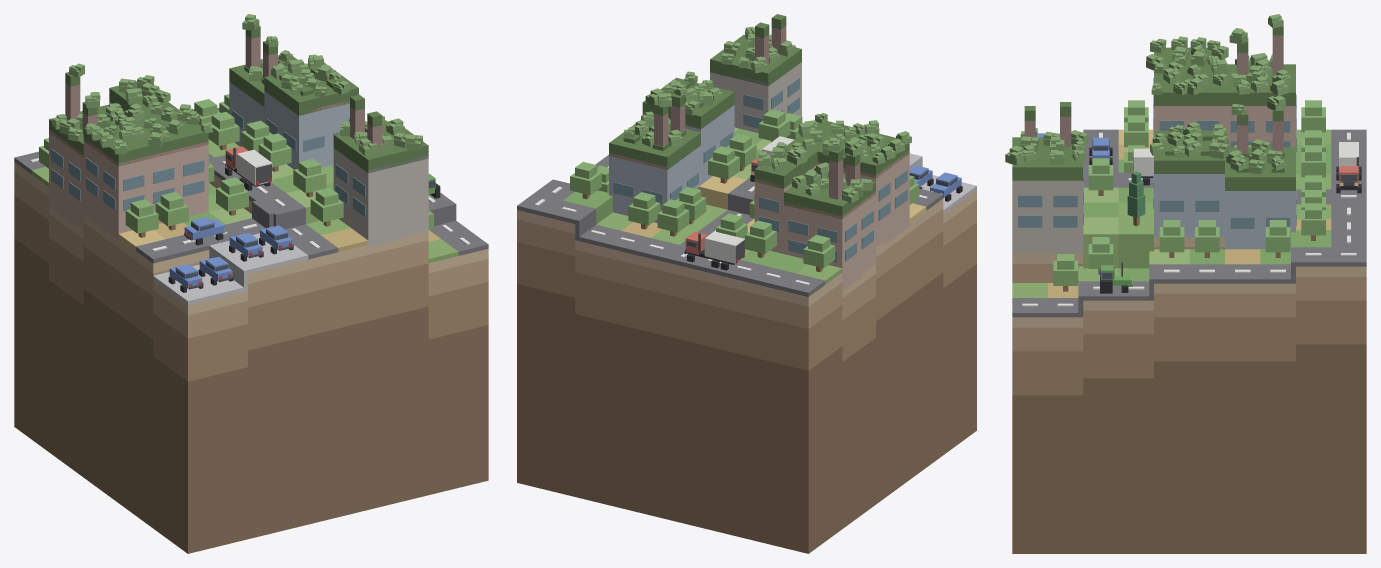
File: block_10_greenroof_45.glb
3 renders of one model, left to right at view 1: azimuth 30°, elevation 25°; view 2: azimuth 150°, elevation 25°; view 3: azimuth 270°, elevation 25°, orthographic. The views are drawn at different scales.
Parts seen in each view (by area): view 1: Patch_LowerLeft_b10_GR, Factories_LowerLeft_b10_GR, GR_Roof_Factories_LowerLeft_b10_GR, Roads_LowerLeft_b10_GR, Ground_LowerLeft_b10_GR, Parking_LowerLeft_b10_GR, Asset_Truck.003_GR, Asset_Tree_Round.061_GR, Asset_Tree_Round.057_GR, Asset_Tree_Round.047_GR, Asset_Tree_Round.048_GR, Asset_Tree_Round.049_GR (+8 smaller); view 2: Patch_LowerLeft_b10_GR, Factories_LowerLeft_b10_GR, GR_Roof_Factories_LowerLeft_b10_GR, Roads_LowerLeft_b10_GR, Ground_LowerLeft_b10_GR, Asset_Truck.002_GR, Asset_Tree_Round.024_GR, Asset_Tree_Round.027_GR, Asset_Tree_Round.029_GR, Asset_Tree_Round.028_GR, Asset_Tree_Round.025_GR, Asset_Tree_Round.042_GR (+7 smaller); view 3: Patch_LowerLeft_b10_GR, Factories_LowerLeft_b10_GR, Roads_LowerLeft_b10_GR, Ground_LowerLeft_b10_GR, GR_Roof_Factories_LowerLeft_b10_GR, Asset_Truck.002_GR, Asset_Tree_Round.037_GR, Asset_Tree_Round.045_GR, Asset_Tree_Round.057_GR, RoadLines_LowerLeft_b10_GR, Asset_Tree_Round.043_GR, Asset_Tree_Round.029_GR (+9 smaller).
Boxes of the visible parts, <box> form: Patch_LowerLeft_b10_GR: <box>14,162,488,553</box>; Factories_LowerLeft_b10_GR: <box>49,35,428,247</box>; GR_Roof_Factories_LowerLeft_b10_GR: <box>49,25,428,172</box>; Roads_LowerLeft_b10_GR: <box>14,107,488,263</box>; Ground_LowerLeft_b10_GR: <box>31,139,458,263</box>; Parking_LowerLeft_b10_GR: <box>153,233,308,305</box>; Asset_Truck.003_GR: <box>225,146,272,190</box>; Asset_Tree_Round.061_GR: <box>310,188,343,226</box>; Asset_Tree_Round.057_GR: <box>293,158,326,197</box>; Asset_Tree_Round.047_GR: <box>125,199,158,237</box>; Asset_Tree_Round.048_GR: <box>155,192,188,230</box>; Asset_Tree_Round.049_GR: <box>216,177,248,215</box>; Patch_LowerLeft_b10_GR: <box>517,190,976,553</box>; Factories_LowerLeft_b10_GR: <box>609,26,909,291</box>; GR_Roof_Factories_LowerLeft_b10_GR: <box>609,14,909,218</box>; Roads_LowerLeft_b10_GR: <box>517,155,943,296</box>; Ground_LowerLeft_b10_GR: <box>563,127,926,284</box>; Asset_Truck.002_GR: <box>684,231,744,270</box>; Asset_Tree_Round.024_GR: <box>803,234,835,271</box>; Asset_Tree_Round.027_GR: <box>657,199,689,236</box>; Asset_Tree_Round.029_GR: <box>570,162,601,199</box>; Asset_Tree_Round.028_GR: <box>628,192,660,229</box>; Asset_Tree_Round.025_GR: <box>745,220,776,257</box>; Asset_Tree_Round.042_GR: <box>708,146,739,183</box>; Patch_LowerLeft_b10_GR: <box>1012,237,1366,553</box>; Factories_LowerLeft_b10_GR: <box>1012,35,1296,253</box>; Roads_LowerLeft_b10_GR: <box>1012,129,1366,317</box>; Ground_LowerLeft_b10_GR: <box>1012,129,1331,297</box>; GR_Roof_Factories_LowerLeft_b10_GR: <box>1012,21,1295,190</box>; Asset_Truck.002_GR: <box>1336,142,1361,193</box>; Asset_Tree_Round.037_GR: <box>1265,220,1290,257</box>; Asset_Tree_Round.045_GR: <box>1159,220,1184,257</box>; Asset_Tree_Round.057_GR: <box>1088,158,1113,195</box>; RoadLines_LowerLeft_b10_GR: <box>1022,132,1356,306</box>; Asset_Tree_Round.043_GR: <box>1195,220,1219,257</box>; Asset_Tree_Round.029_GR: <box>1301,203,1325,240</box>.
Bounding box in the file's own units: 9.69 × 11.91 × 9.69.
